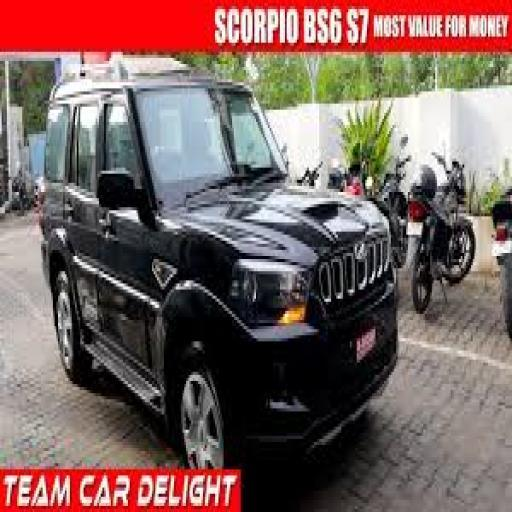car: (42, 58, 412, 468)
